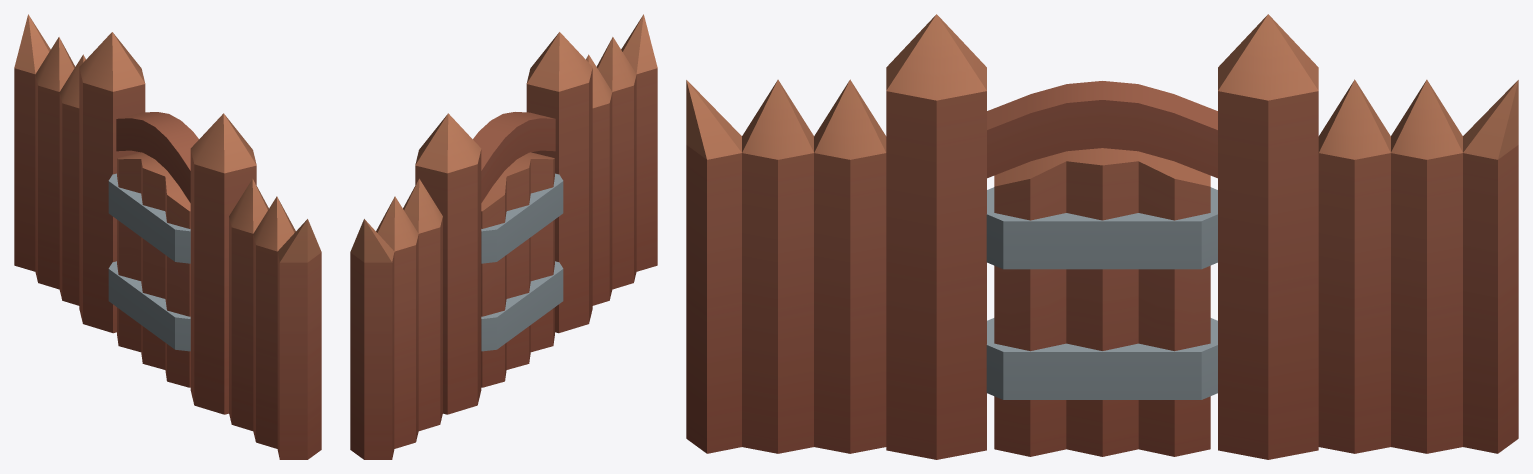
File: fence_wood_straight_gate.gltf
3 views of the same model, side by side, from view 1: azimuth 30°, elevation 25°; view 2: azimuth 150°, elevation 25°; view 3: azimuth 270°, elevation 25° (orthographic). The views are drawn at different scales.
Visible parts, largest first — view 1: fence_wood_straight_gate, fence_wood_straight_door; view 2: fence_wood_straight_gate, fence_wood_straight_door; view 3: fence_wood_straight_gate, fence_wood_straight_door.
Boxes of the visible parts, x1,y1,x2,y2 form: fence_wood_straight_gate: (14,14,321,459); fence_wood_straight_door: (108,152,190,387); fence_wood_straight_gate: (350,14,657,459); fence_wood_straight_door: (481,152,563,387); fence_wood_straight_gate: (686,14,1518,459); fence_wood_straight_door: (986,148,1217,456).
Size of the model in its own units: 0.14 by 0.65 by 1.15.
1 material, 1 textured.
